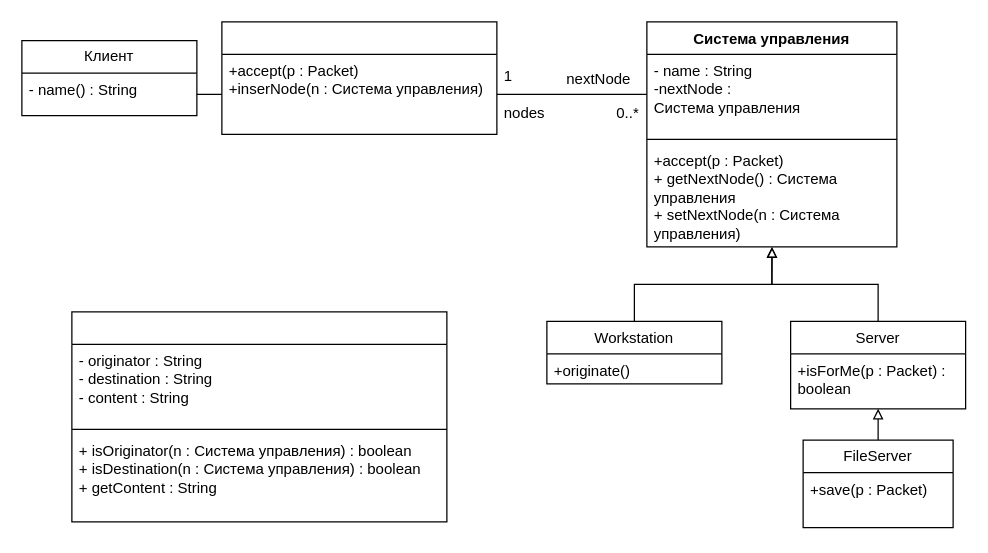
Image size: 988x553. Some labels were removed from this diagram. Here are the shapes that lost their labels. From the top down, the box of each, then its label:
(221, 21, 497, 134): Работник станции
(71, 311, 447, 522): Packet
